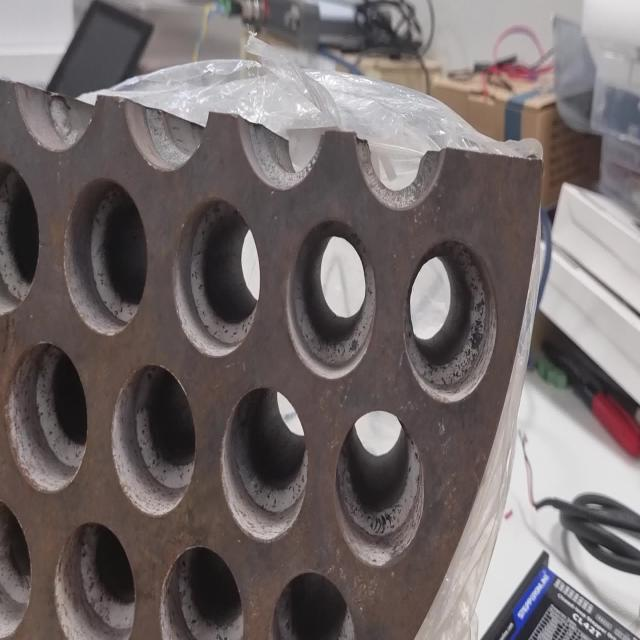Hole: (403, 236, 498, 403), (286, 218, 376, 380), (172, 198, 262, 358), (335, 412, 425, 568), (220, 386, 308, 542), (64, 176, 148, 336), (111, 363, 196, 517), (5, 341, 88, 493), (54, 520, 136, 640), (160, 544, 244, 640), (270, 568, 356, 640), (0, 164, 40, 316)
